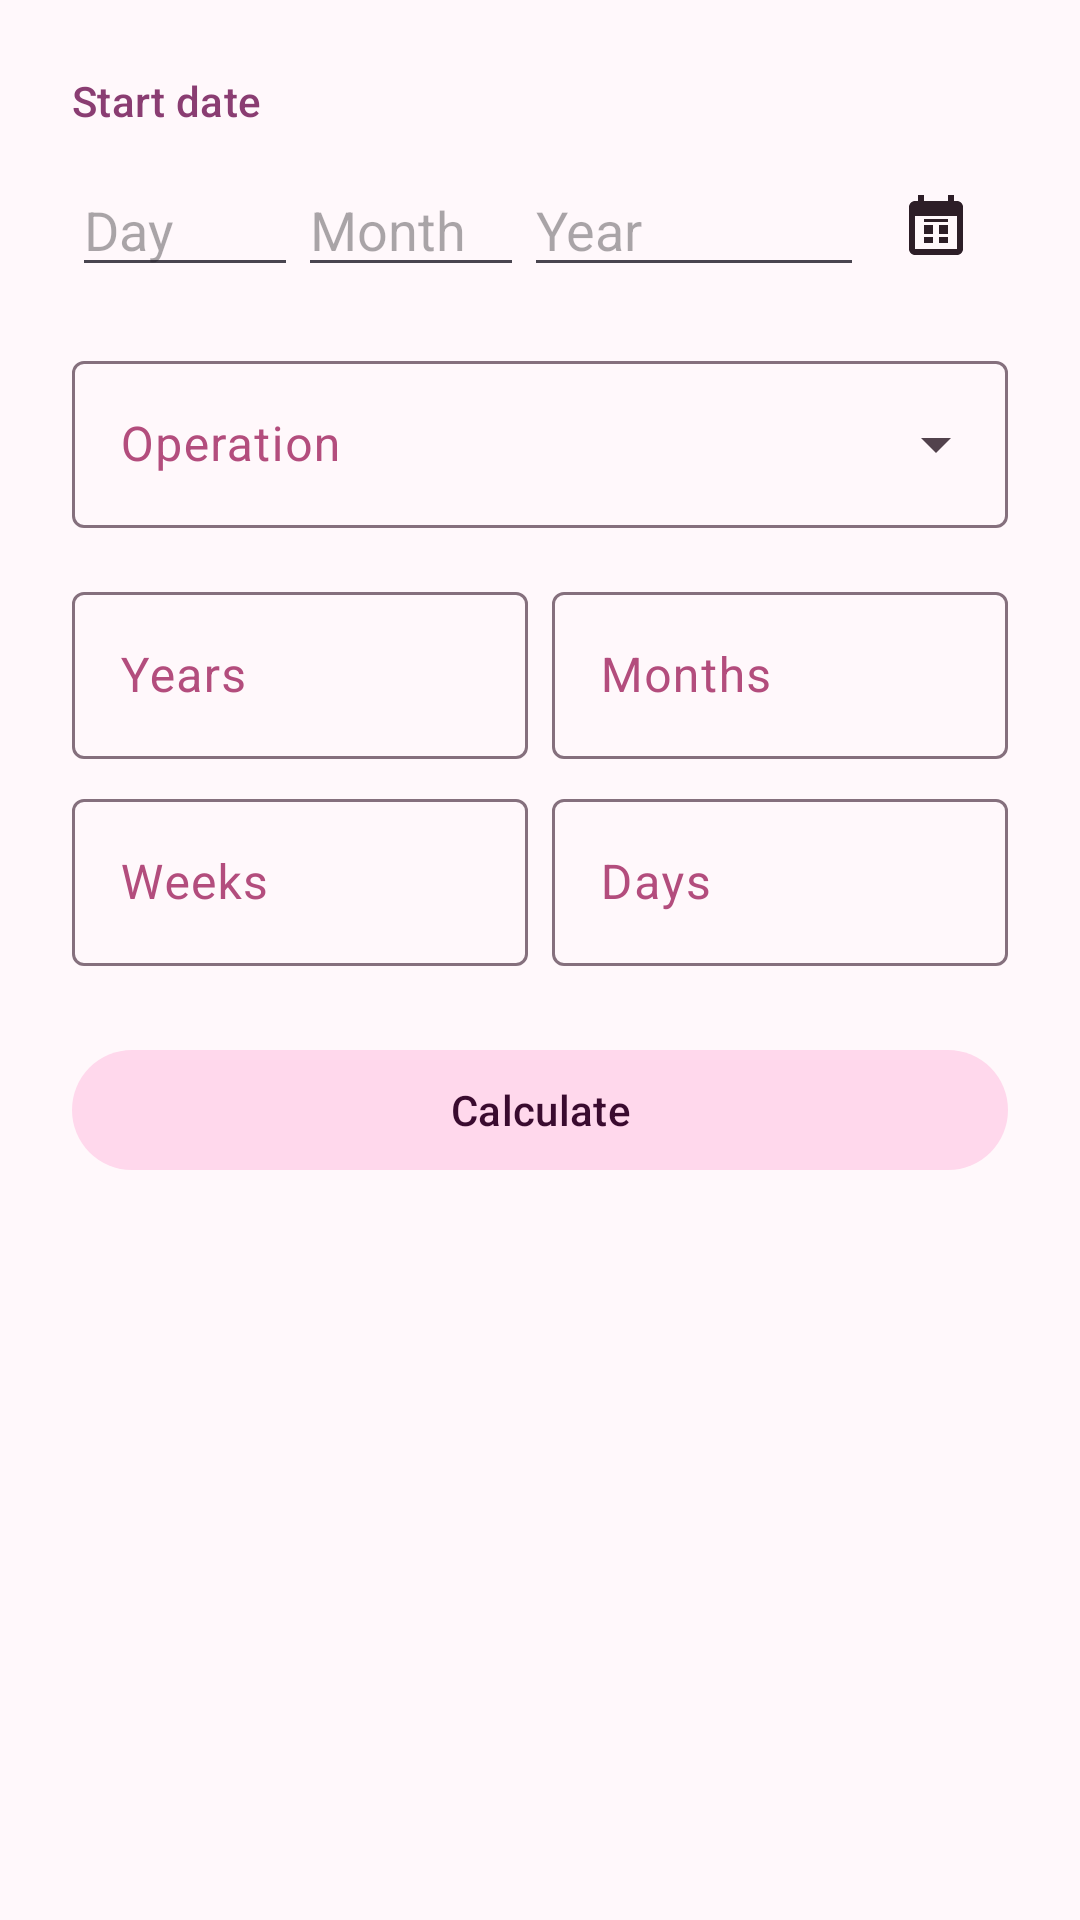

Icon click points for this 1080w x 1920h phone screenshot, format [x,y]:
Start date: [936,225]
